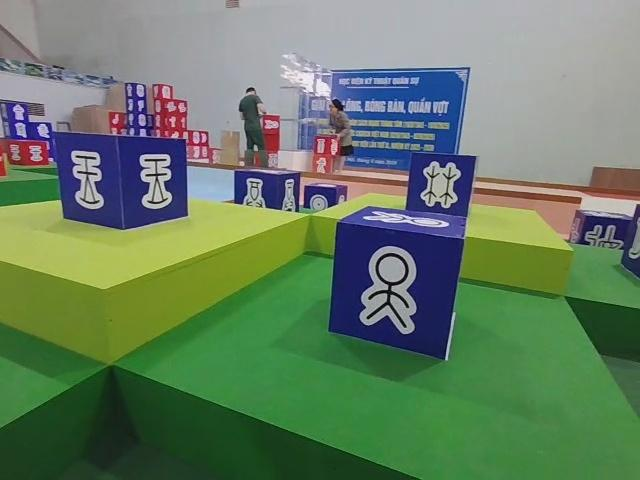R2 Real Blue: (332, 205, 470, 364), (52, 132, 188, 233), (405, 151, 477, 219), (235, 167, 302, 212), (566, 208, 635, 248), (306, 184, 349, 212)
